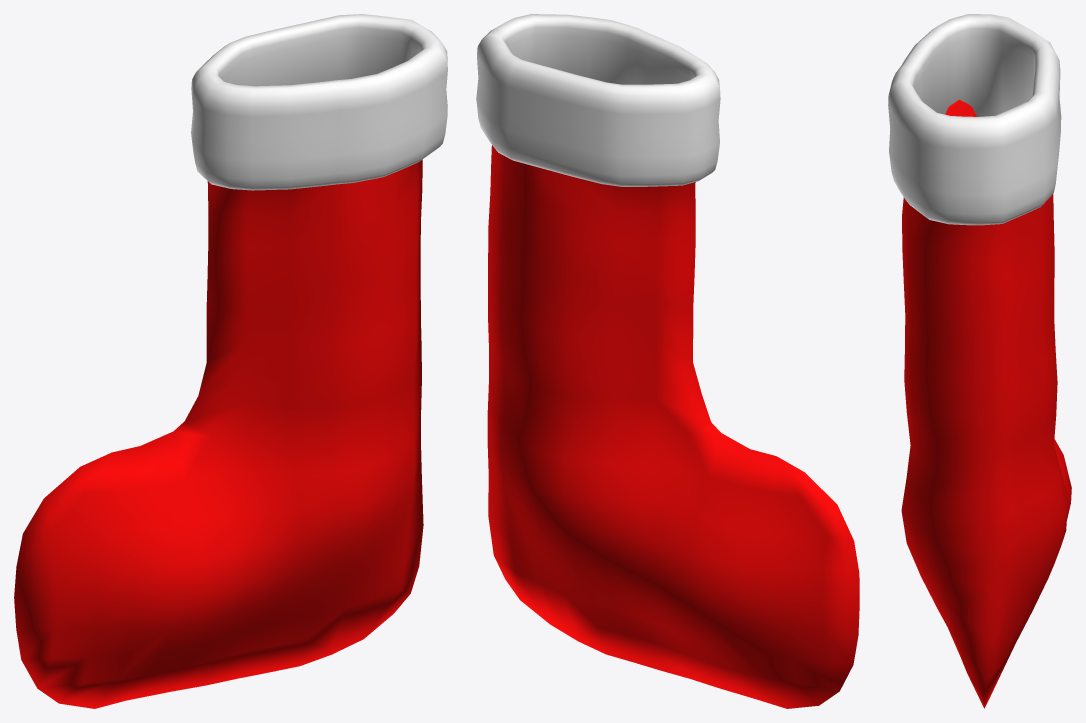
File: christmas_socks.dae
The picture shows the model from 3 angles, left to right: view 1: azimuth 30°, elevation 25°; view 2: azimuth 150°, elevation 25°; view 3: azimuth 270°, elevation 25°; orthographic projection. The views are drawn at different scales.
Parts seen in each view (by area): view 1: group_0, group_1; view 2: group_0, group_1; view 3: group_0, group_1.
Part boxes in pixels (x1=…): group_0: x1=14, y1=159, x2=423, y2=708; group_1: x1=191, y1=14, x2=447, y2=190; group_0: x1=487, y1=145, x2=859, y2=708; group_1: x1=476, y1=14, x2=720, y2=186; group_0: x1=901, y1=99, x2=1071, y2=708; group_1: x1=888, y1=14, x2=1061, y2=225.
Bounding box in the file's own units: 52.33 × 20.07 × 76.48.
